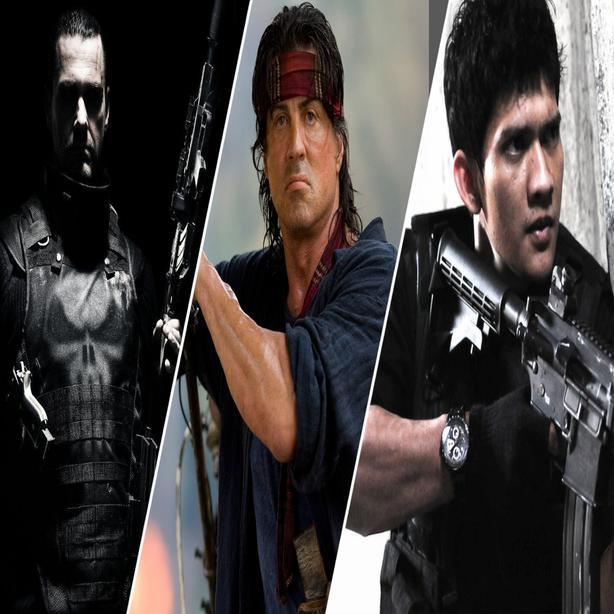Firearm: (408, 223, 614, 614), (138, 0, 233, 467)
